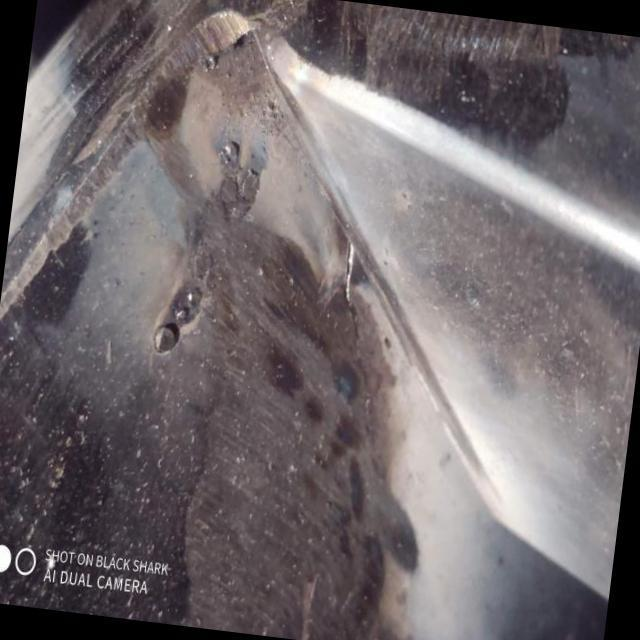defect: (336, 231, 380, 437)
